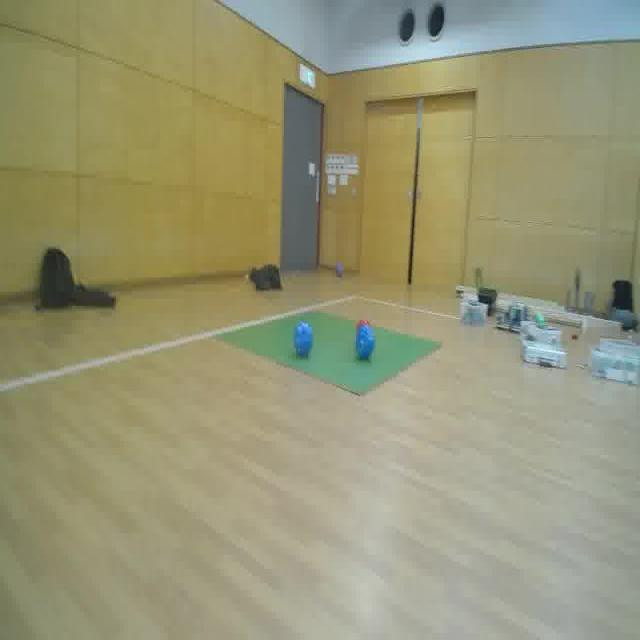blue_ball: (291, 318, 315, 358), (355, 325, 376, 359)
purple_ball: (335, 260, 345, 279)
